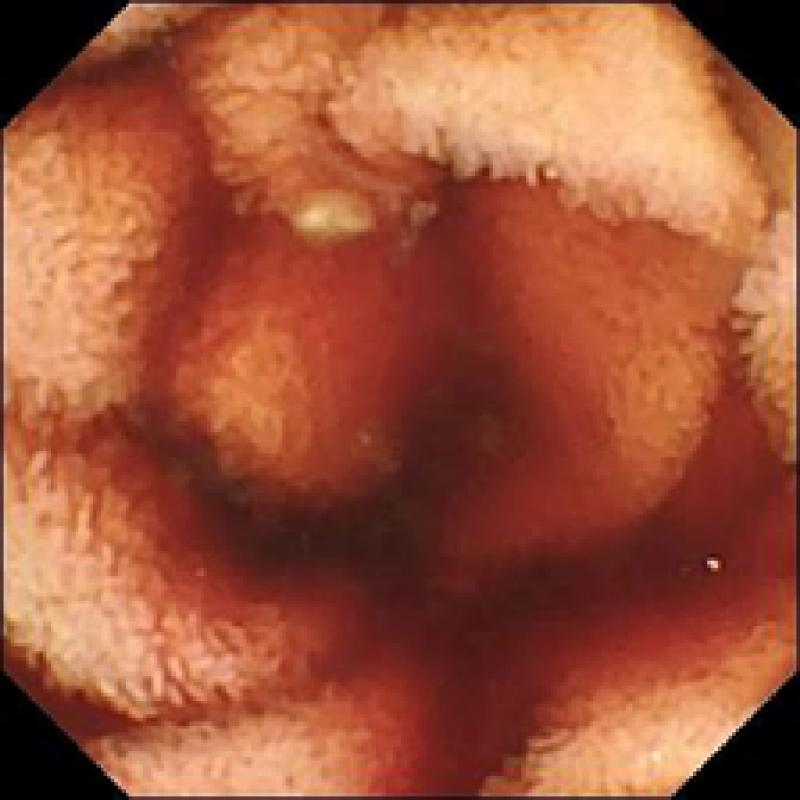bleeding: (93, 93, 775, 800)
